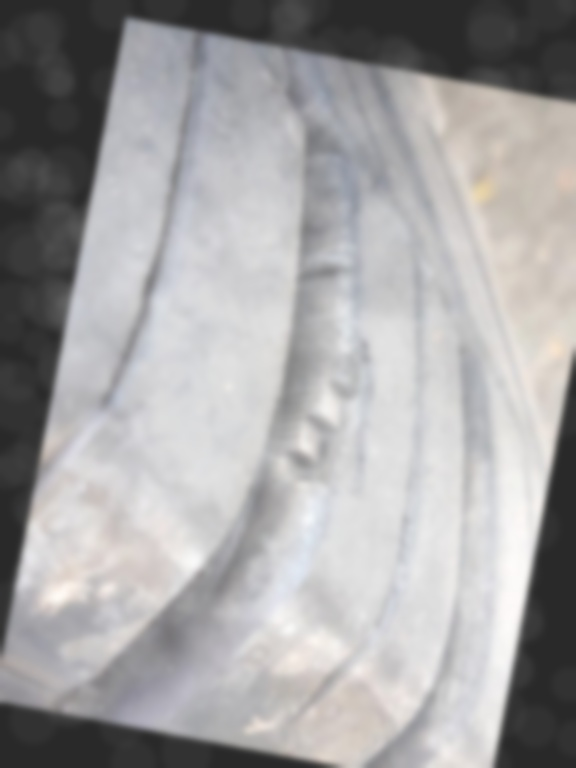temoin:80: (254, 294, 407, 514)
